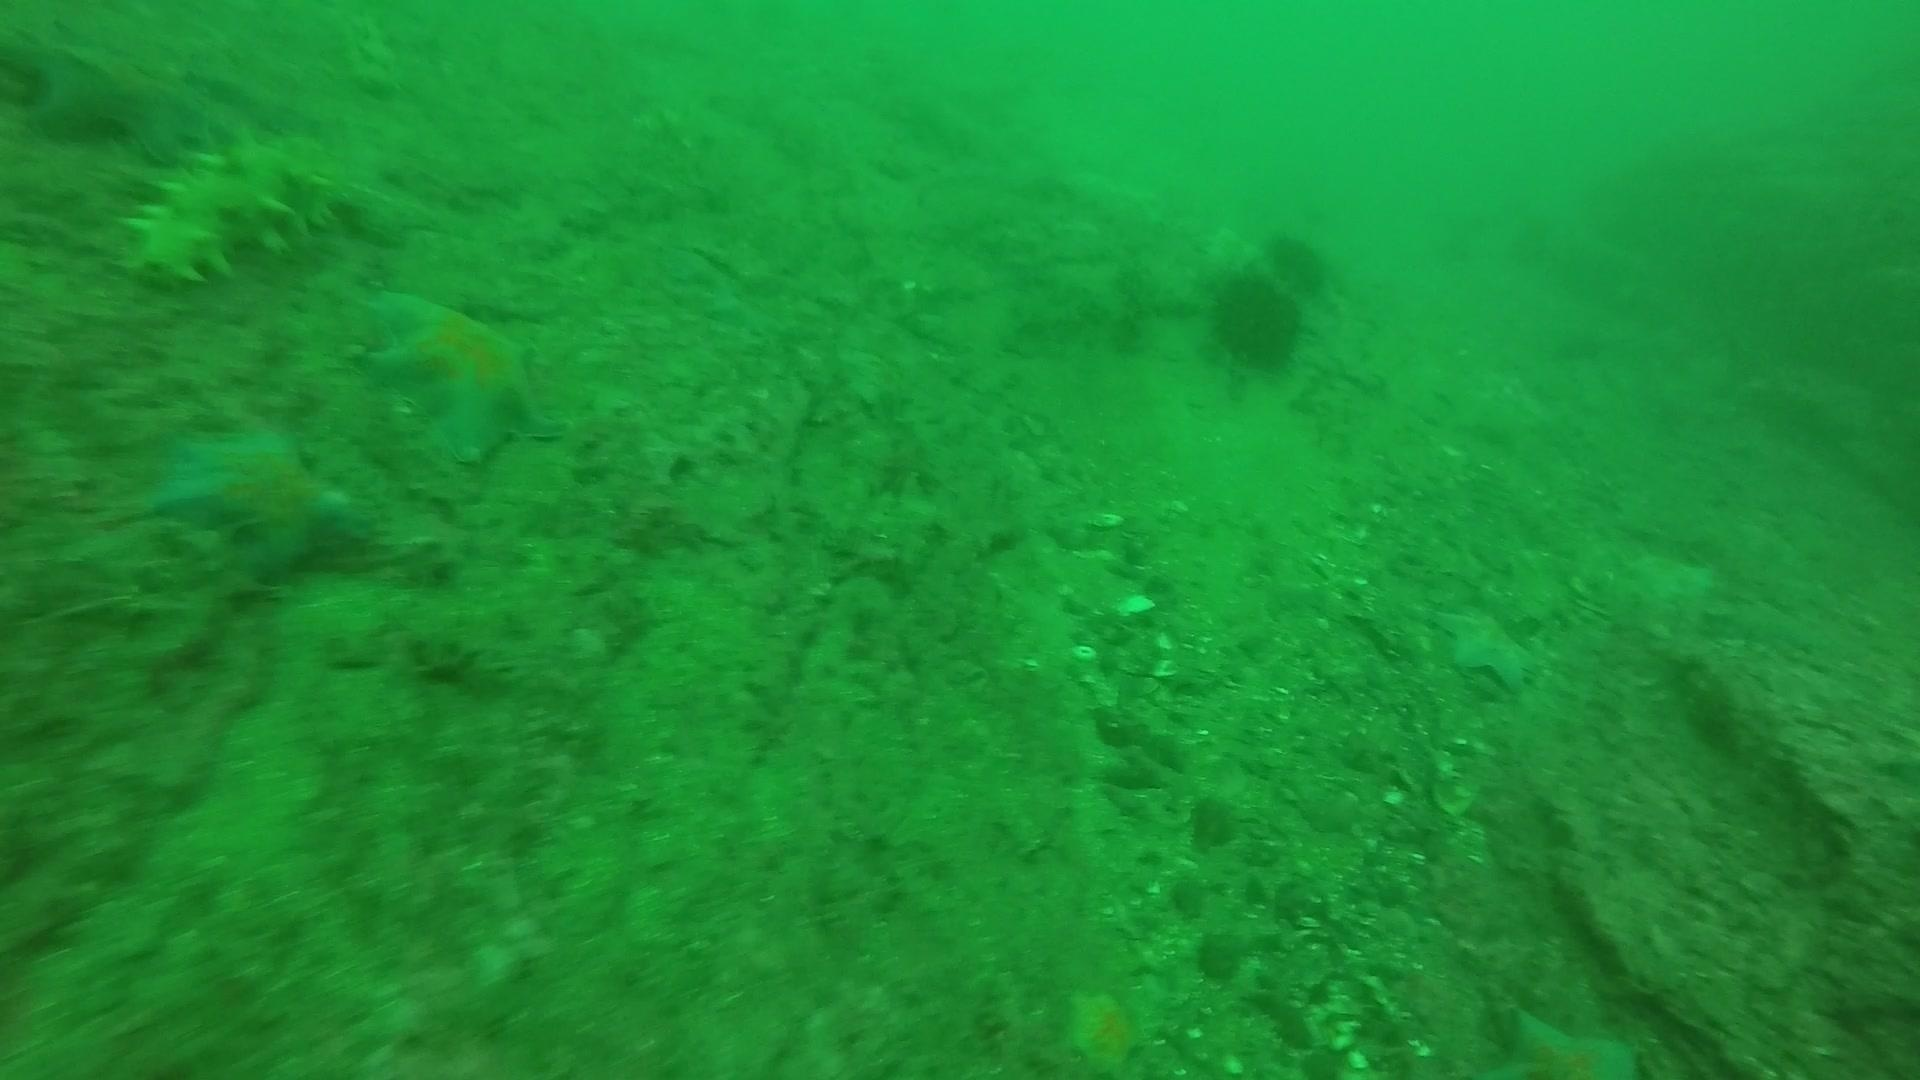echinus: (1201, 265, 1309, 377), (1261, 225, 1337, 301)
holothurian: (113, 123, 356, 291), (336, 1, 404, 107)
starfish: (138, 414, 378, 583), (353, 281, 567, 469), (7, 4, 235, 169), (1571, 545, 1722, 637), (1425, 596, 1544, 698), (1487, 1000, 1644, 1075), (1052, 978, 1156, 1076)
